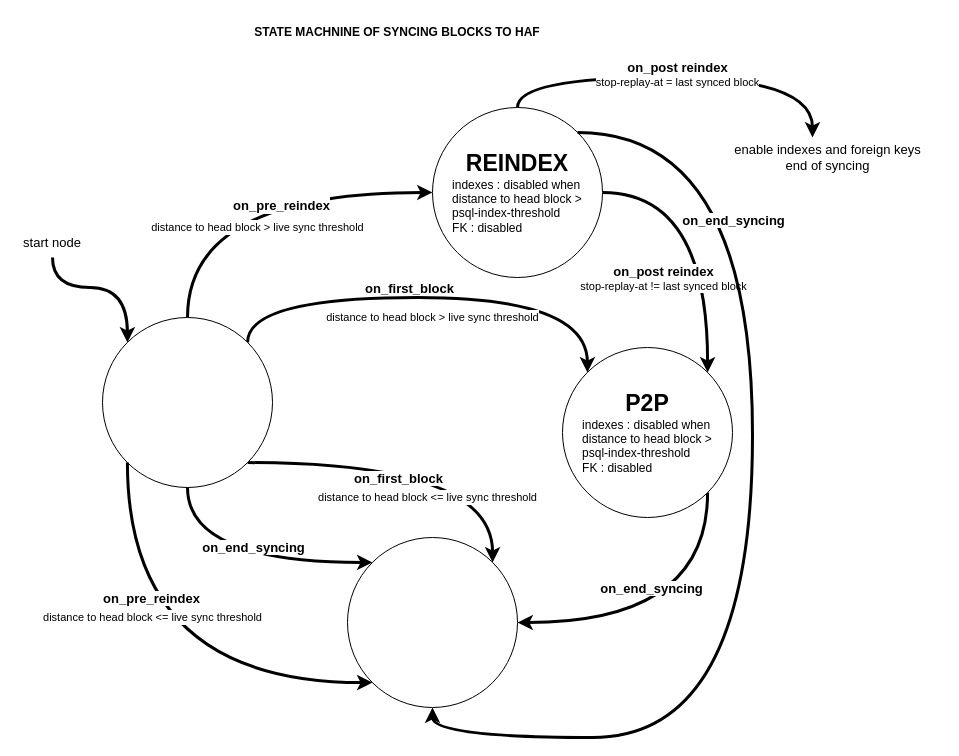
This 959x756 diagram has some shape labels left out. The centre of each missing label's shape, as x and y in pixels:
LIVE indexes : enabled FK : enabled: the point at 432,622
START indexes : not changed FK : not changed: the point at 187,402
